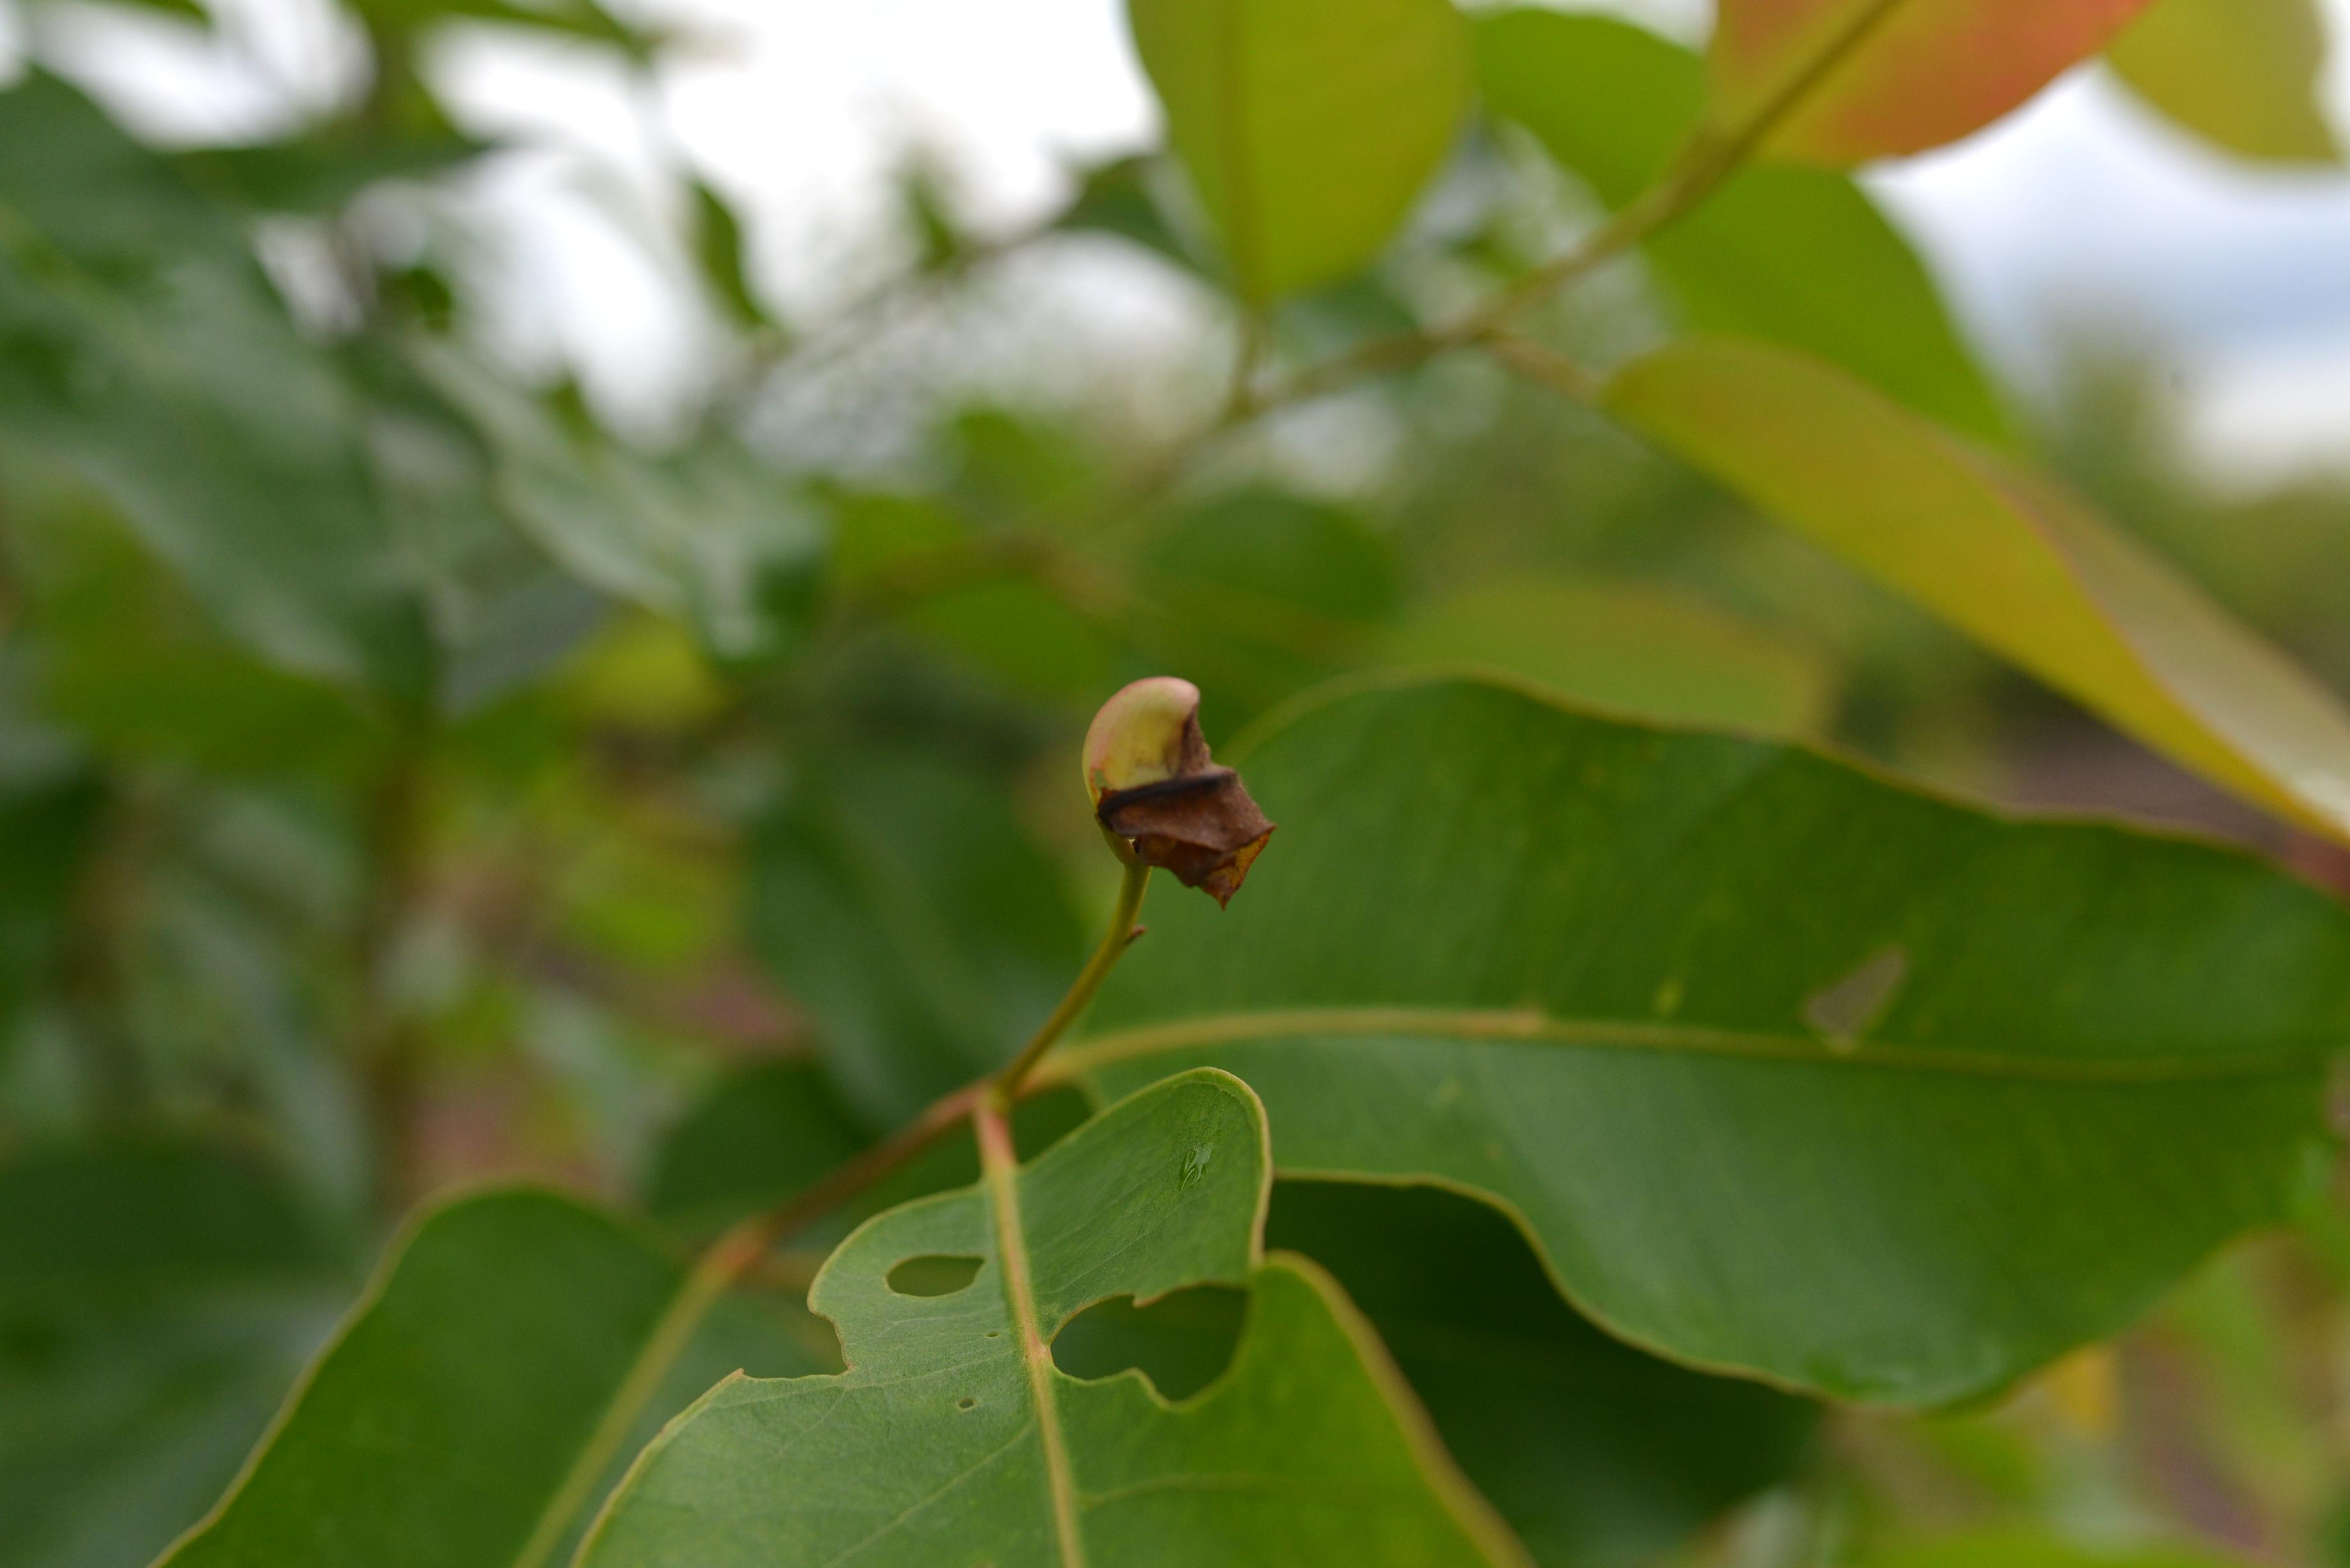Helopeltis-Withered Sprout: (1051, 671, 1297, 912)
